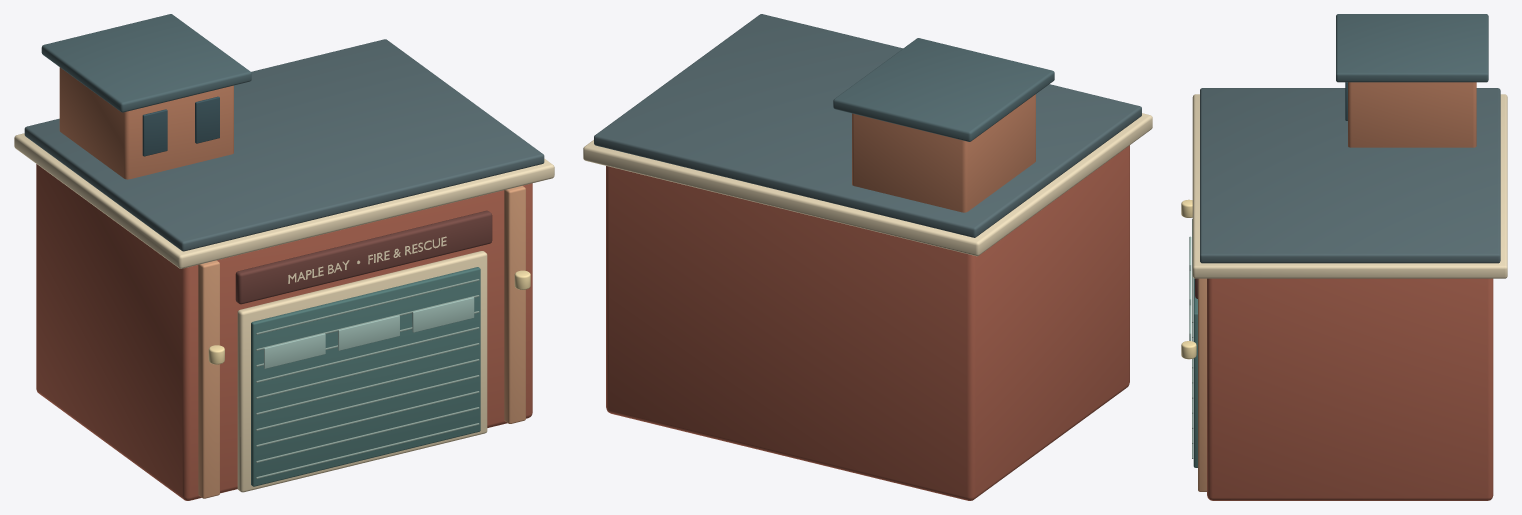
File: station.glb
The picture shows the model from 3 angles, left to right: view 1: azimuth 30°, elevation 25°; view 2: azimuth 150°, elevation 25°; view 3: azimuth 270°, elevation 25°; orthographic projection. The views are drawn at different scales.
Visible parts, largest first — view 1: Station; view 2: Station; view 3: Station.
Boxes of the visible parts, x1=… form: Station: x1=14, y1=14, x2=554, y2=500; Station: x1=583, y1=14, x2=1152, y2=500; Station: x1=1181, y1=14, x2=1507, y2=500.
Size of the model in its own units: 8.6 by 7.64 by 6.84.
